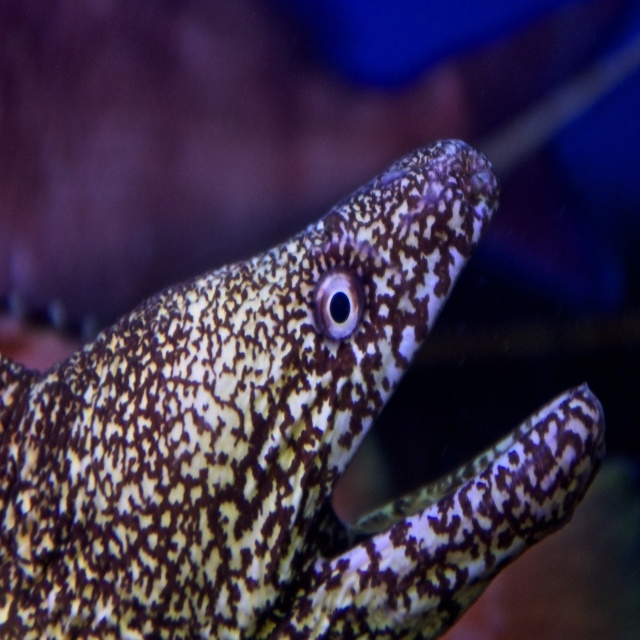Fish: (6, 151, 581, 640)
